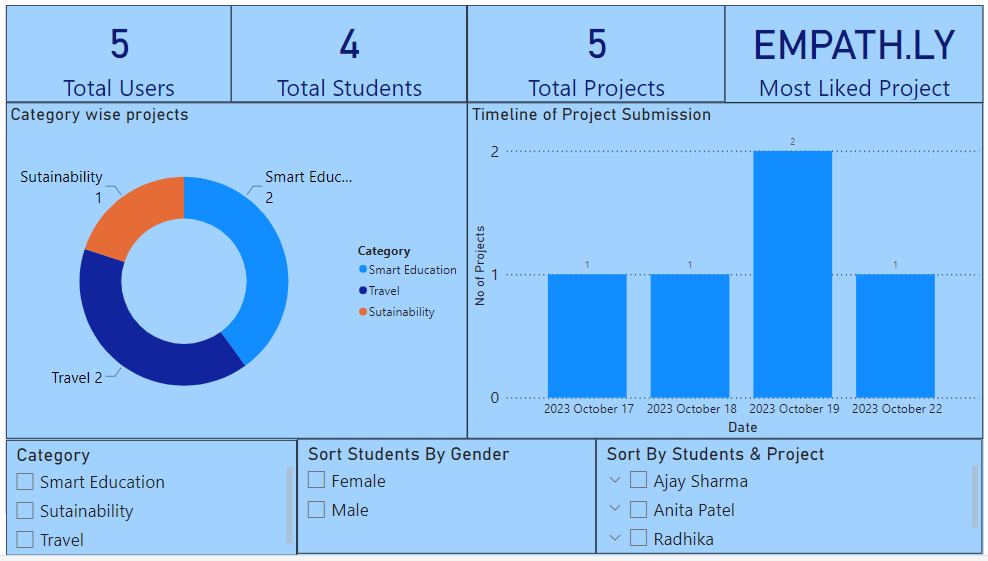

This screenshot's page, from the dashboard's own definition file:
{"tool":"powerbi","page":{"name":"Page 1","canvas":[1280,720],"ordinal":0},"visuals":[{"type":"card","fields":{"Values":["CountNonNull(EduMitra users._id.$oid)"]},"box":[0,0,294.8,127.6],"z":0},{"type":"card","fields":{"Values":["CountNonNull(EduMitra users._id.$oid)"]},"box":[294.8,0,309,127.6],"z":1000},{"type":"card","fields":{"Values":["CountNonNull(EduMitra projects._id.$oid)"]},"box":[603.8,0,337.3,127.6],"z":3000},{"type":"donutChart","title":"Category wise projects","fields":{"Category":["EduMitra projects.Category"],"Y":["CountNonNull(EduMitra projects._id.$oid)"]},"box":[0,127.9,603.8,440.4],"z":4000},{"type":"clusteredColumnChart","title":"Timeline of Project Submission","fields":{"Category":["EduMitra projects.createdAt.$date.Variation.Date Hierarchy.Year","EduMitra projects.createdAt.$date.Variation.Date Hierarchy.Month","EduMitra projects.createdAt.$date.Variation.Date Hierarchy.Day"],"Y":["CountNonNull(EduMitra projects._id.$oid)"]},"box":[603.8,127.9,674.8,440.4],"z":5000},{"type":"slicer","fields":{"Values":["EduMitra users.gender"]},"box":[381.3,568.3,391.2,150.2],"z":7000},{"type":"slicer","fields":{"Values":["EduMitra projects.Category"]},"box":[0,567.8,380.8,151.3],"z":7001},{"type":"card","fields":{"Values":["EduMitra projects.ProjectNameWithMaxLikes"]},"box":[940.5,0,338.1,127.9],"z":7003},{"type":"slicer","fields":{"Values":["EduMitra projects.creatorInfo.name","EduMitra projects.pTitle"]},"box":[772.4,568.3,506,150.2],"z":7004}]}

Visuals, with their boxes in screenshot pixels (x1, y1, x2, y2), scaled from the page's 1280x720 canvas onto the 988x561 screenshot:
card - CountNonNull(EduMitra users._id.$oid): (x1=0, y1=0, x2=228, y2=99)
card - CountNonNull(EduMitra users._id.$oid): (x1=228, y1=0, x2=466, y2=99)
card - CountNonNull(EduMitra projects._id.$oid): (x1=466, y1=0, x2=726, y2=99)
"Category wise projects" donutChart: (x1=0, y1=100, x2=466, y2=443)
"Timeline of Project Submission" clusteredColumnChart: (x1=466, y1=100, x2=987, y2=443)
slicer - EduMitra users.gender: (x1=294, y1=443, x2=596, y2=560)
slicer - EduMitra projects.Category: (x1=0, y1=442, x2=294, y2=560)
card - EduMitra projects.ProjectNameWithMaxLikes: (x1=726, y1=0, x2=987, y2=100)
slicer - EduMitra projects.creatorInfo.name x EduMitra projects.pTitle: (x1=596, y1=443, x2=987, y2=560)
